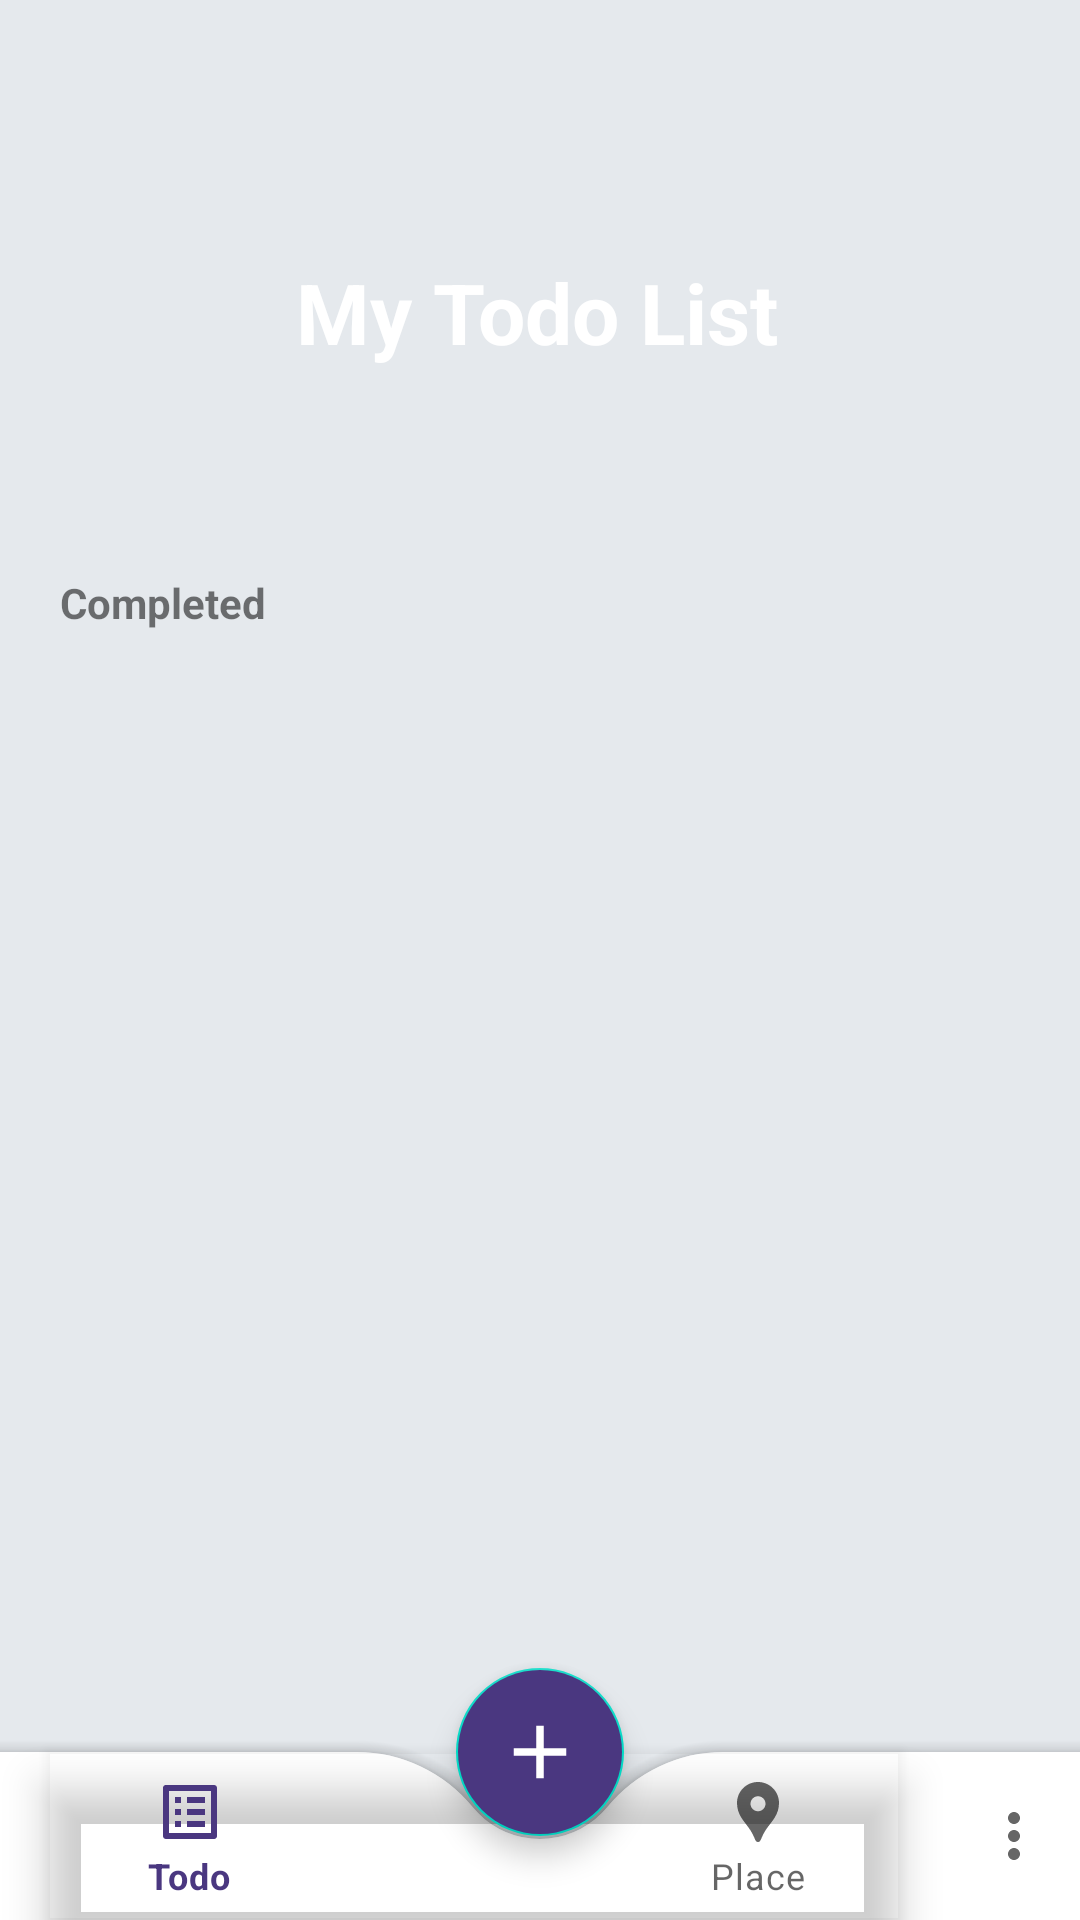

Icon click points for this 1080x1920 phone screenshot, format [x,y]:
Add Todo: [540,1752]
